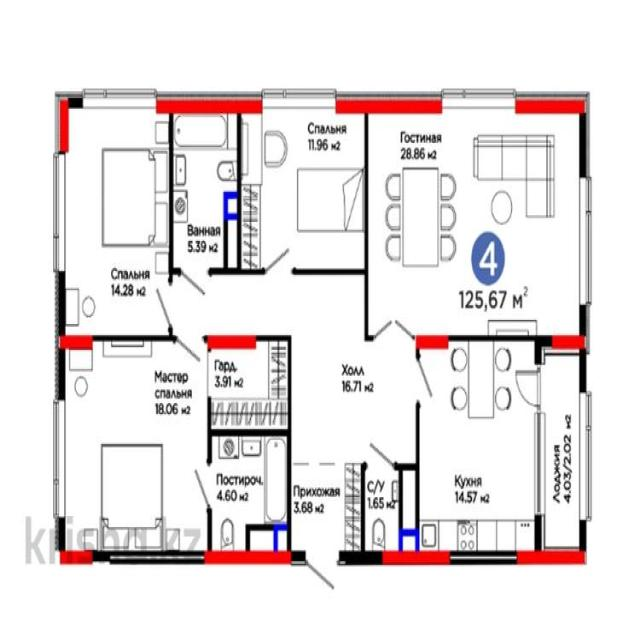balcony: (538, 349, 586, 558)
bathroom: (172, 95, 240, 273), (208, 425, 290, 554), (358, 460, 419, 552)
hallway: (298, 344, 416, 457), (172, 276, 363, 338), (292, 458, 352, 556)
kitchen: (414, 337, 538, 553)
living_room: (368, 108, 586, 339), (58, 344, 211, 552), (63, 91, 171, 339), (241, 96, 368, 274)
other: (202, 333, 291, 428)
